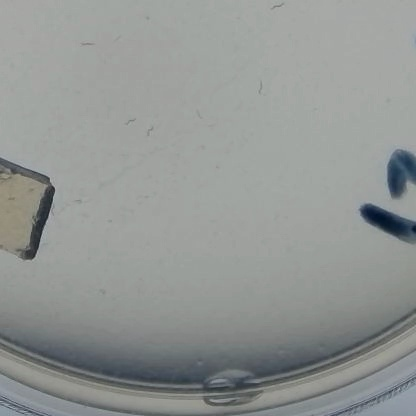worm: (78, 24, 114, 49), (257, 0, 292, 24), (116, 114, 144, 136), (140, 121, 156, 145), (254, 75, 269, 100), (191, 104, 206, 123), (143, 10, 154, 22)
